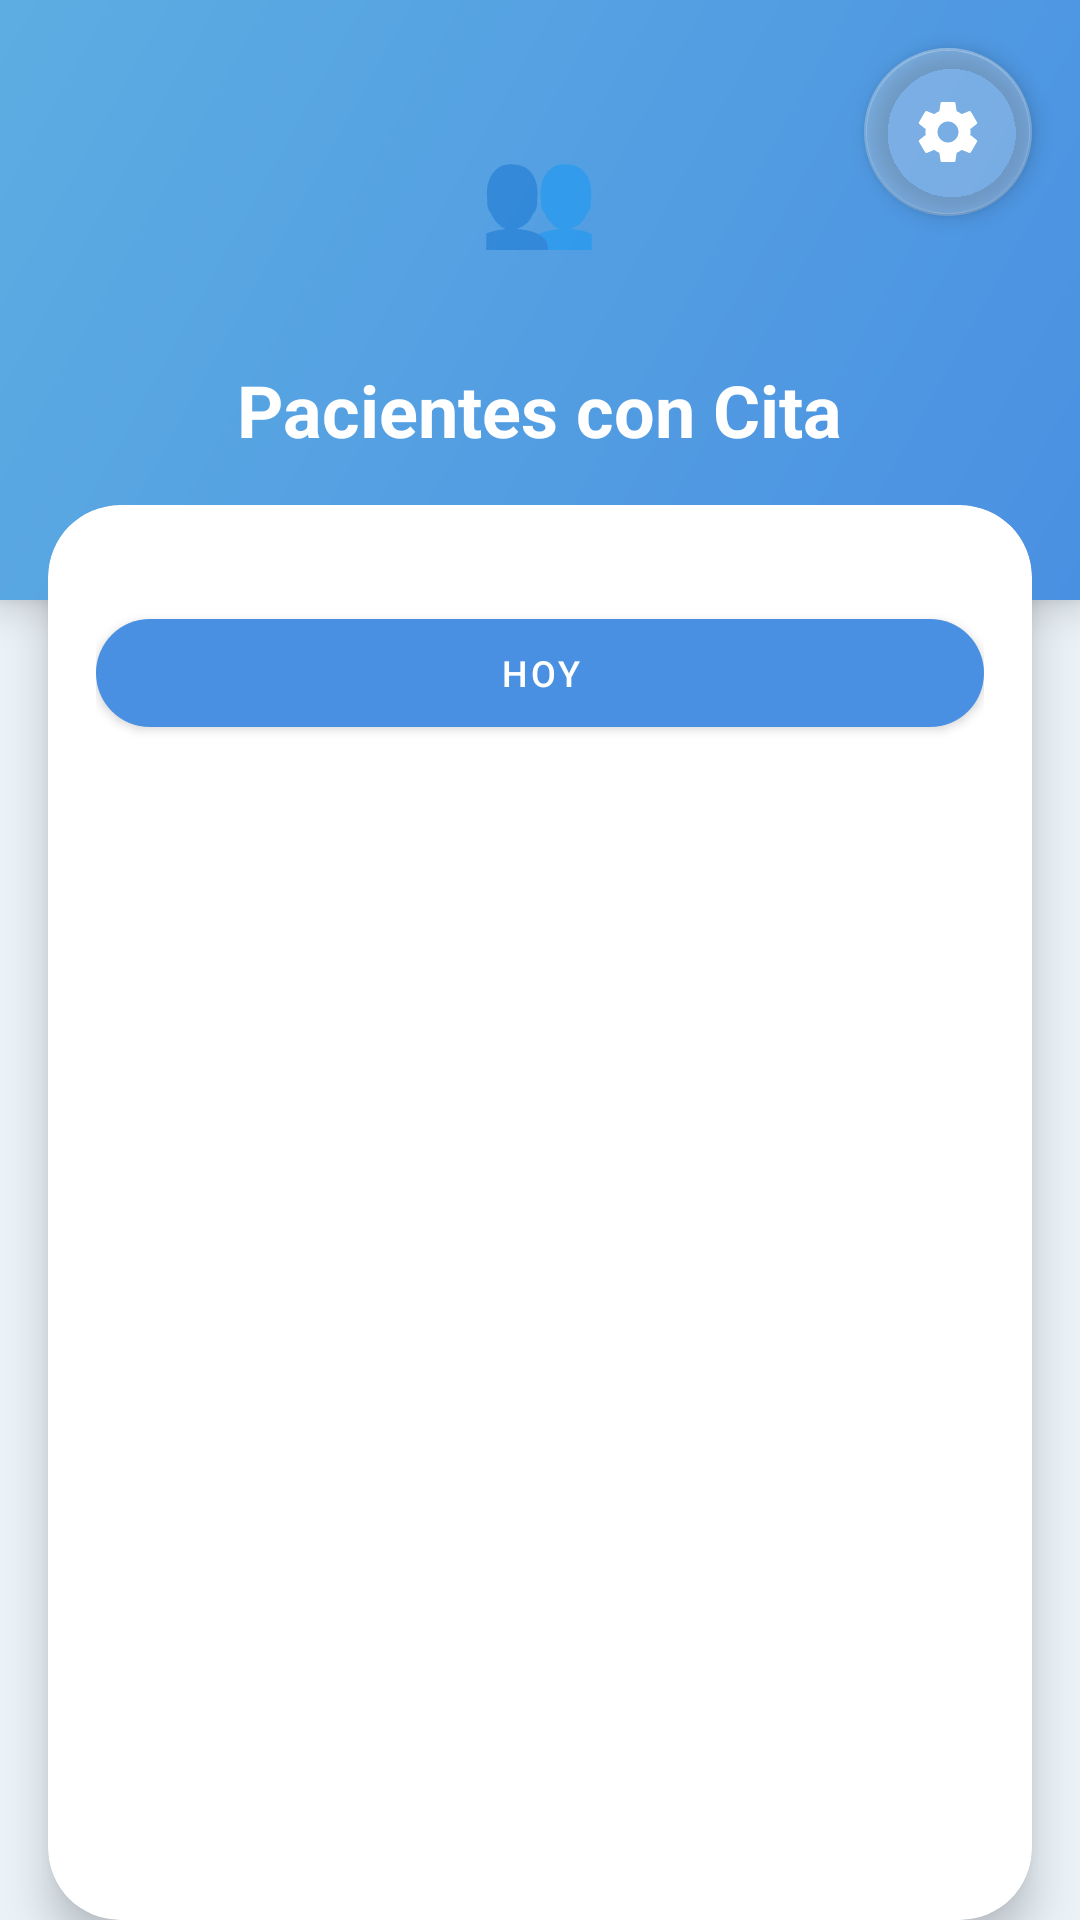

Icon click points for this 1080px x 1920px phone screenshot, format [x,y]:
settings: [948,132]
